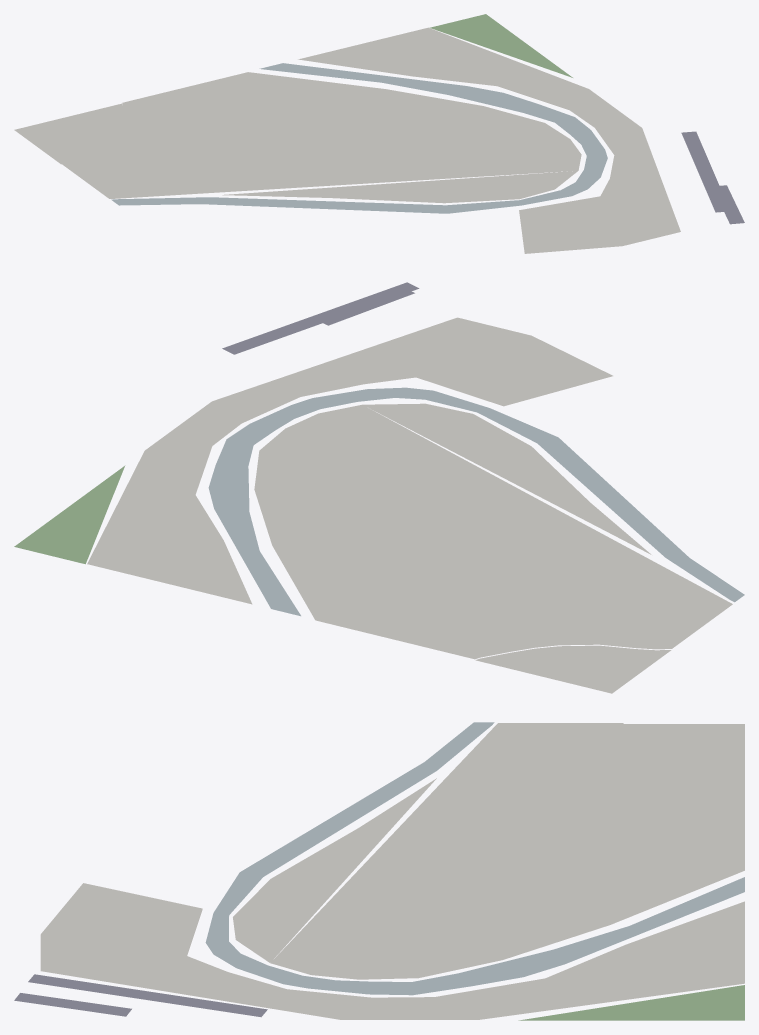
The model's file is 115_116_mid.glb.
3 views of the same model, one above another, from view 1: azimuth 30°, elevation 25°; view 2: azimuth 150°, elevation 25°; view 3: azimuth 270°, elevation 25° (orthographic). The views are drawn at different scales.
Bounding box in the file's own units: 524 × 14.77 × 519.
